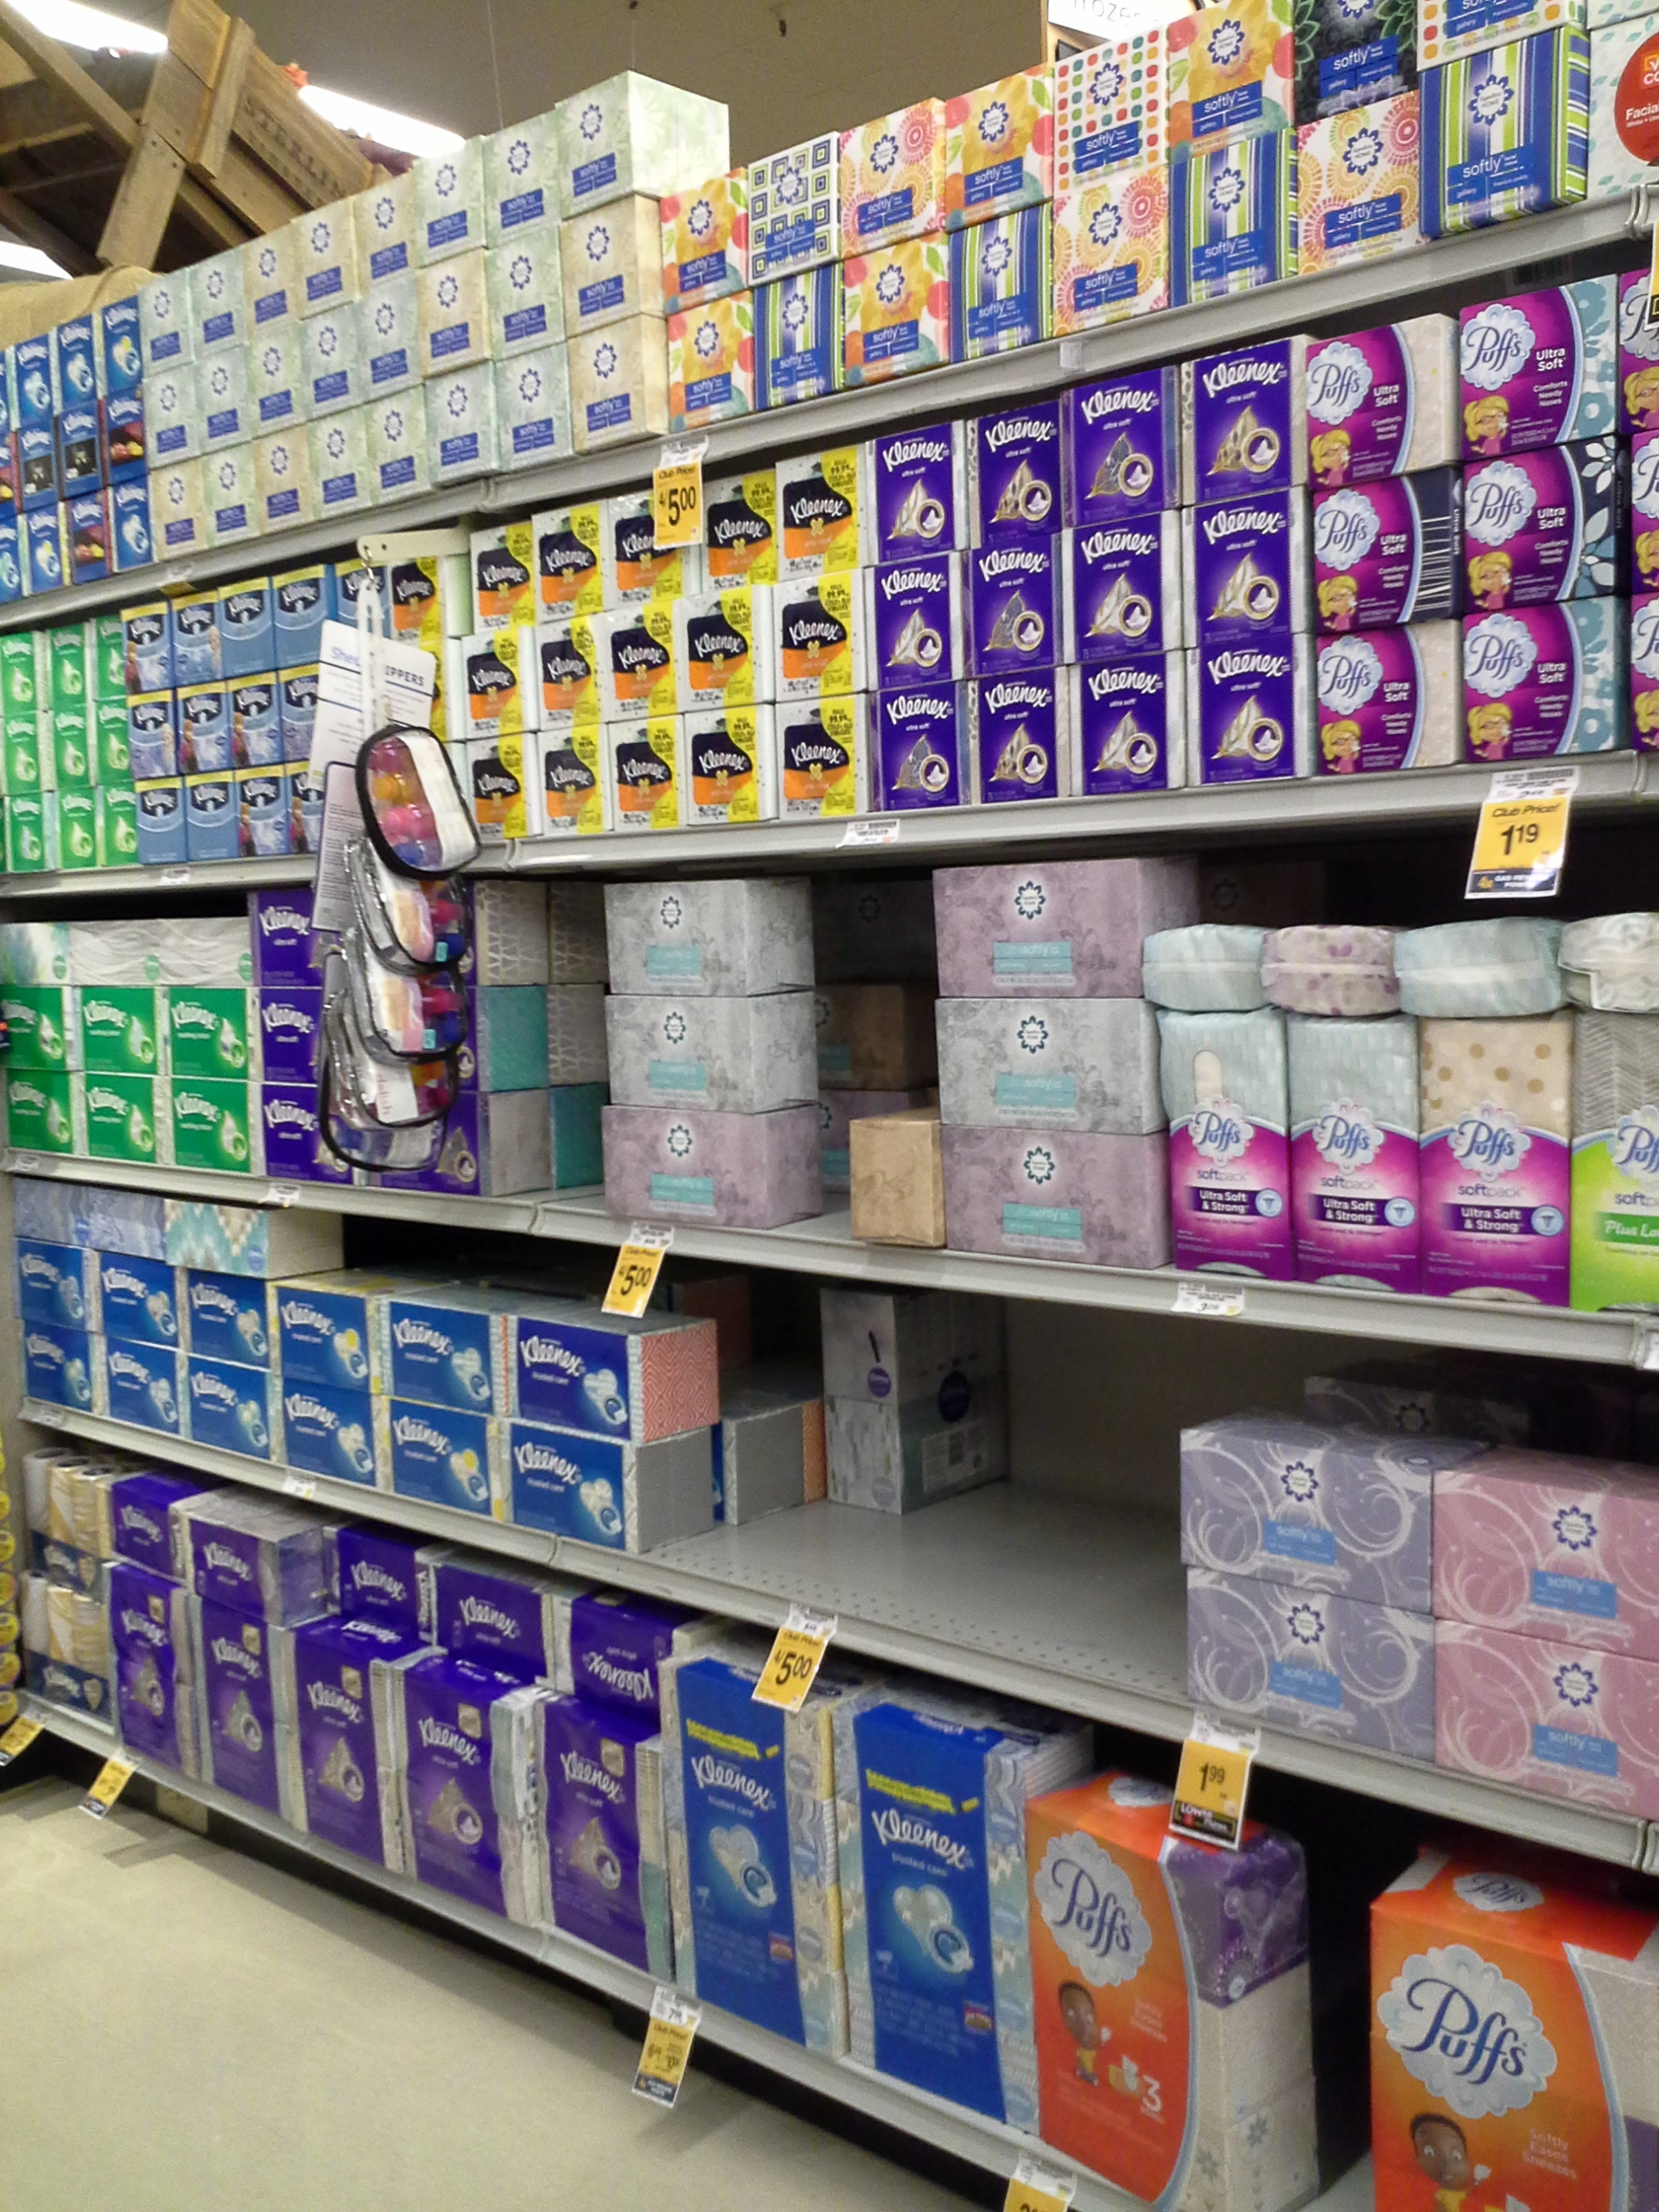Misplacement: (655, 1301, 896, 1601)
Out-of-stock: (911, 1289, 1183, 1723), (471, 880, 601, 1219)
